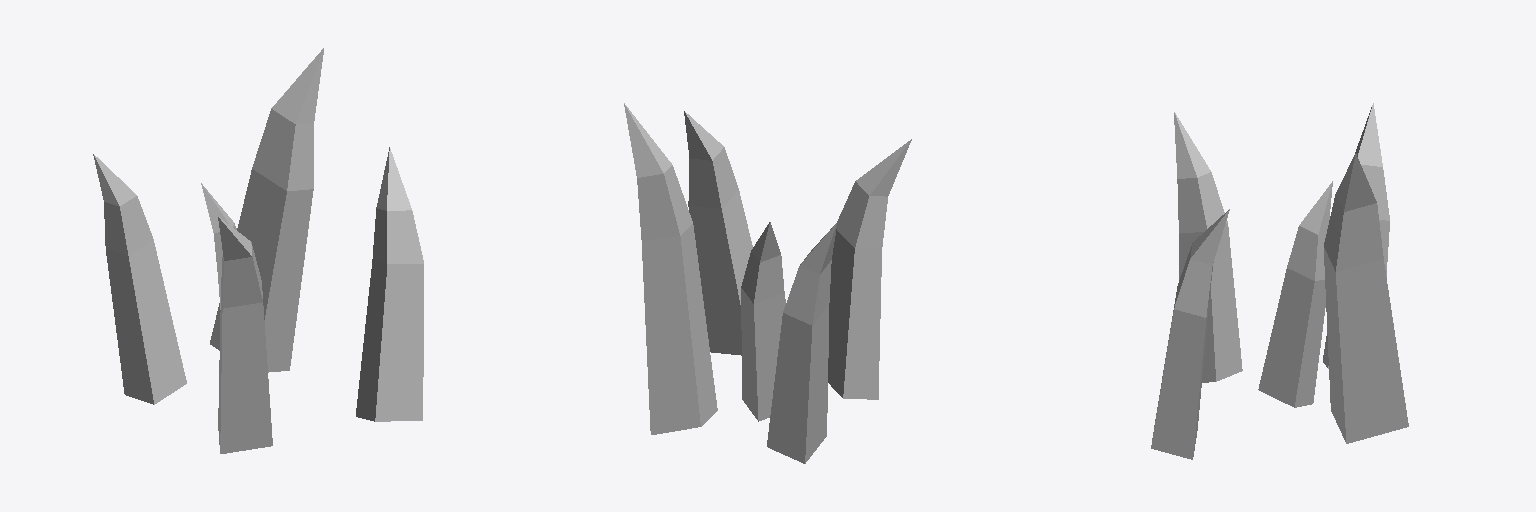
File: ground_06.obj
3 views of the same model, side by side, from view 1: azimuth 30°, elevation 25°; view 2: azimuth 150°, elevation 25°; view 3: azimuth 270°, elevation 25° (orthographic).
Visible parts, largest first — view 1: Grass_006; view 2: Grass_006; view 3: Grass_006.
Boxes of the visible parts, x1,y1,x2,y2 form: Grass_006: [93, 48, 423, 453]; Grass_006: [624, 103, 911, 463]; Grass_006: [1151, 103, 1408, 459].
Size of the model in its own units: 0.1954 by 0.2492 by 0.1875.